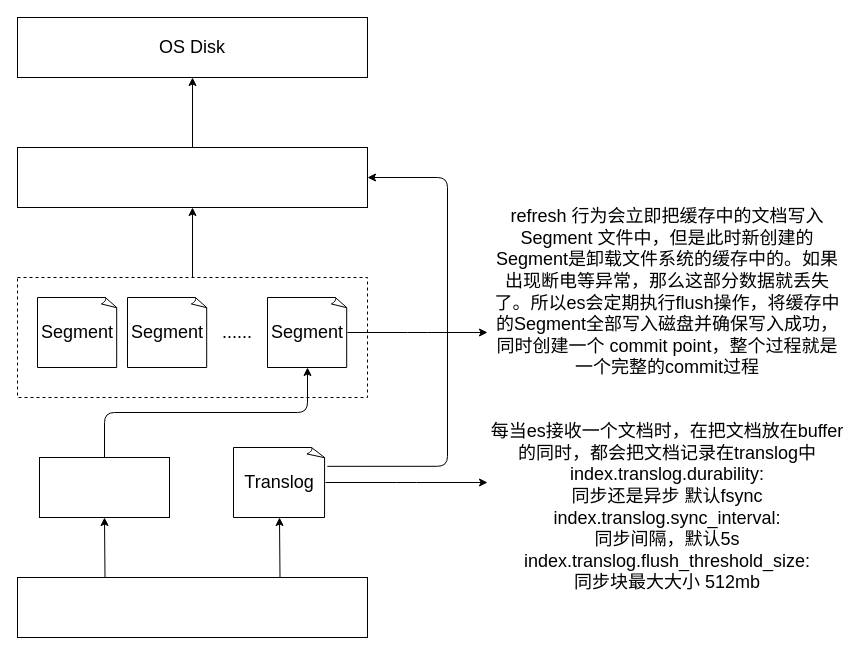
This 865x655 diagram has some shape labels left out. Here are the shapes that lost their labels. From the top down, the centre of each, then its label:
At pixel 192 177: "OS Cache".
At pixel 104 487: "Memort Buffer".
At pixel 192 607: "Client".
